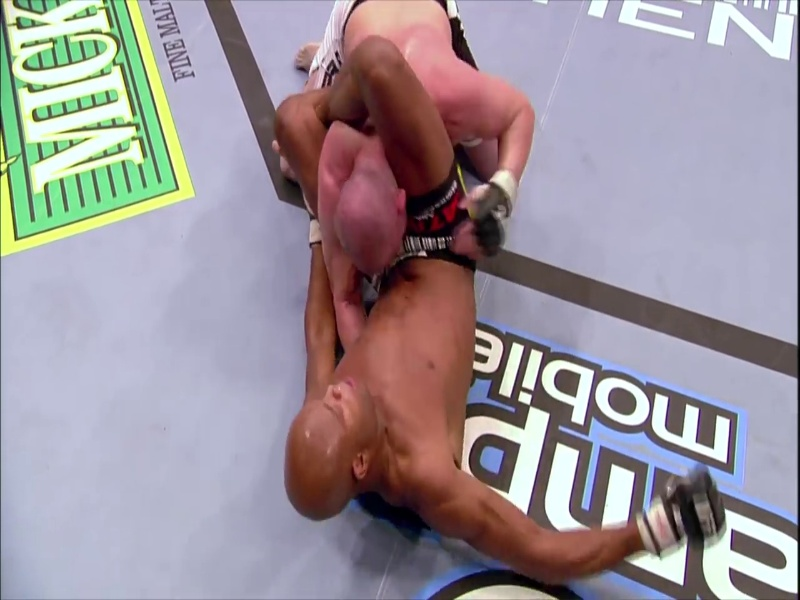fighter: (261, 28, 742, 567), (290, 1, 544, 260)
